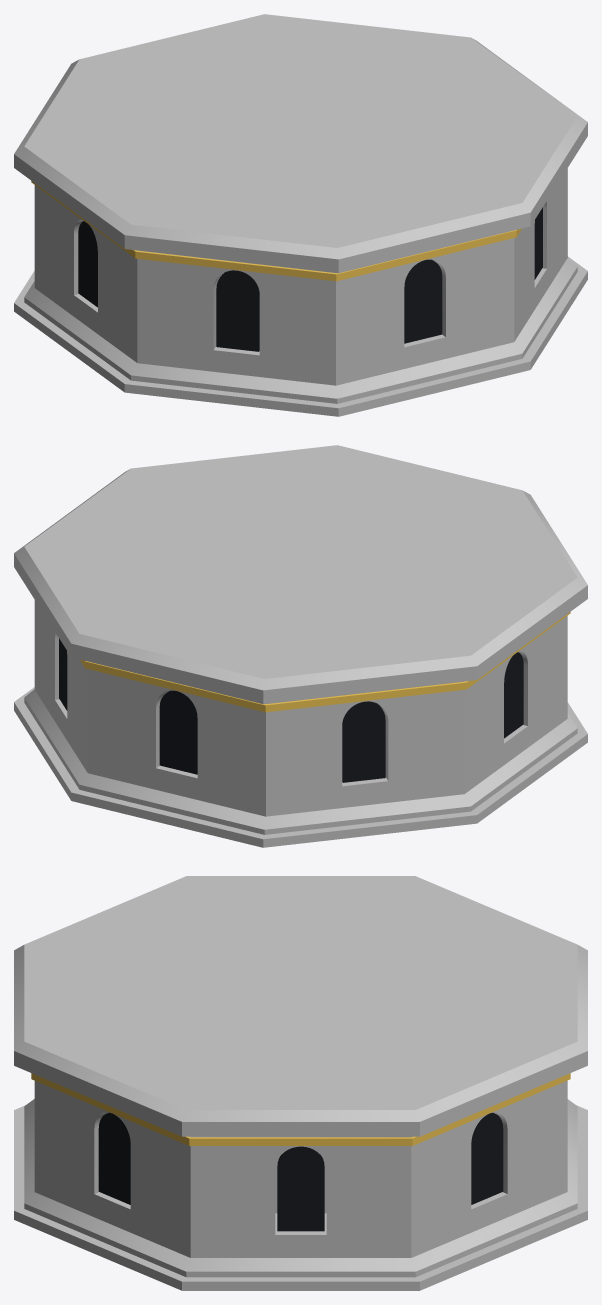
The model's file is temple_drum.obj.
3 renders of one model, top to bottom at view 1: azimuth 30°, elevation 25°; view 2: azimuth 150°, elevation 25°; view 3: azimuth 270°, elevation 25°, orthographic. The views are drawn at different scales.
Parts seen in each view (by area): view 1: temple_drum; view 2: temple_drum; view 3: temple_drum.
Boxes of the visible parts, bbox=[...] form: temple_drum: bbox=[14, 14, 587, 416]; temple_drum: bbox=[14, 445, 587, 847]; temple_drum: bbox=[14, 876, 587, 1290].
Bounding box in the file's own units: 5.6 × 1.9 × 5.6.
